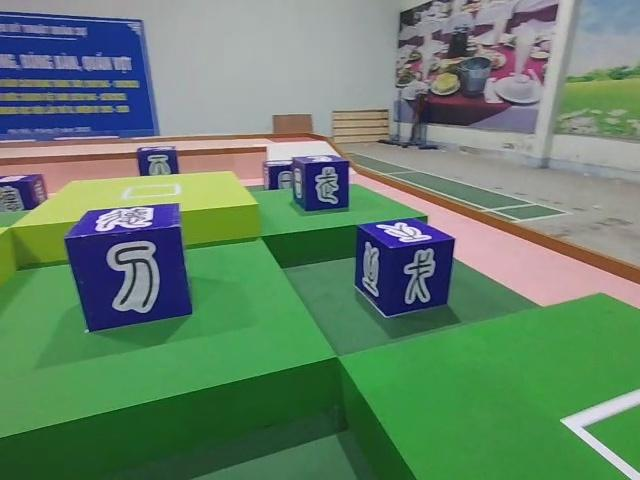R2 Fake Blue: (65, 204, 196, 336), (356, 220, 457, 320), (292, 153, 352, 212), (0, 175, 47, 214), (135, 145, 180, 178), (261, 160, 296, 191)
